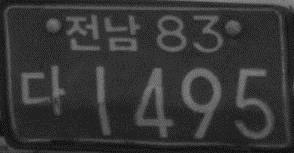1: (91, 64, 115, 140)
3: (191, 13, 223, 55)
4: (133, 64, 174, 140)
5: (233, 67, 276, 139)
8: (155, 13, 187, 53)
9: (180, 66, 222, 141)
다: (21, 63, 64, 115)
전남_O: (64, 12, 141, 51)
